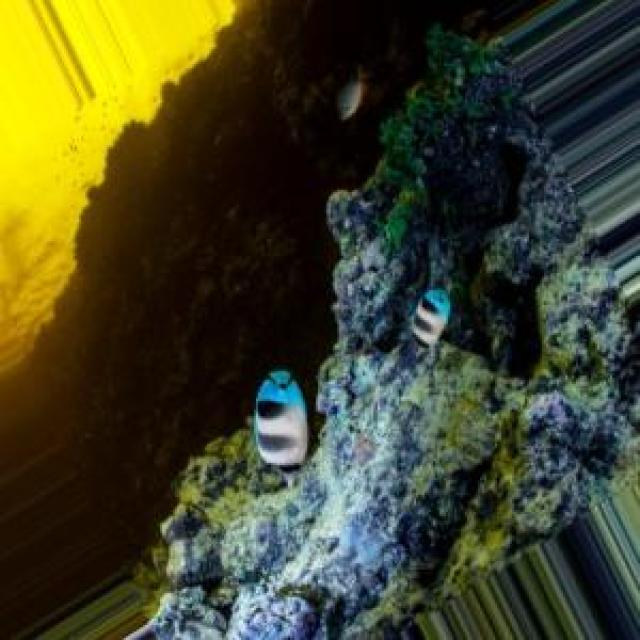Healthy: (148, 27, 640, 637)
